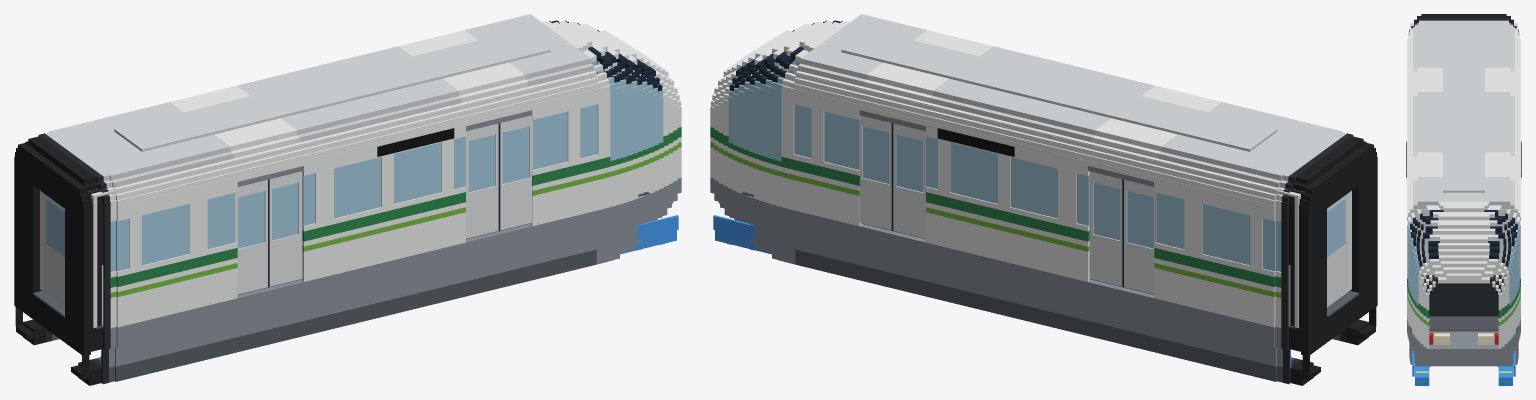
File: ecobee_front.obj
3 renders of one model, left to right at view 1: azimuth 30°, elevation 25°; view 2: azimuth 150°, elevation 25°; view 3: azimuth 270°, elevation 25°, orthographic. The views are drawn at different scales.
Parts seen in each view (by area): view 1: SHELL, SHELL_roof, SHELL_diaphragm, EXTERNAL_DOOR_9_CG_DR2_TOGGLE_TL_-0.64_X, EXTERNAL_DOOR_4_CG_DR1_TOGGLE_TL_0.64_X, EXTERNAL_DOOR_3_CG_DR1_TOGGLE_TL_-0.64_X, EXTERNAL_DOOR_10_CG_DR2_TOGGLE_TL_0.64_X, CONNECTING_DOOR_1_CG_CR_TOGGLE_TL_0.98_Z, SHELL_ceiling, BOGEY_FRONT, SHELL_end, SHELL_sign; view 2: SHELL, SHELL_roof, SHELL_diaphragm, EXTERNAL_DOOR_12_CG_DL2_TOGGLE_TL_-0.64_X, EXTERNAL_DOOR_7_CG_DL1_TOGGLE_TL_0.64_X, EXTERNAL_DOOR_6_CG_DL1_TOGGLE_TL_-0.64_X, EXTERNAL_DOOR_13_CG_DL2_TOGGLE_TL_0.64_X, CONNECTING_DOOR_1_CG_CR_TOGGLE_TL_0.98_Z, SHELL_ceiling, BOGEY_FRONT, SHELL_end, SHELL_sign; view 3: SHELL, SHELL_roof, SHELL_desk, SHELL_cabwall, SHELL_floor, BOGEY_FRONT, SHELL_ceiling, HEADLIGHT_1, FLOOR.
Part boxes in pixels (left/top/right/bottom): SHELL: left=23, top=14, right=681, bottom=385; SHELL_roof: left=114, top=29, right=550, bottom=151; SHELL_diaphragm: left=14, top=143, right=90, bottom=379; EXTERNAL_DOOR_9_CG_DR2_TOGGLE_TL_-0.64_X: left=465, top=123, right=500, bottom=238; EXTERNAL_DOOR_4_CG_DR1_TOGGLE_TL_0.64_X: left=269, top=171, right=302, bottom=286; EXTERNAL_DOOR_3_CG_DR1_TOGGLE_TL_-0.64_X: left=235, top=179, right=269, bottom=294; EXTERNAL_DOOR_10_CG_DR2_TOGGLE_TL_0.64_X: left=500, top=115, right=532, bottom=230; CONNECTING_DOOR_1_CG_CR_TOGGLE_TL_0.98_Z: left=43, top=193, right=64, bottom=307; SHELL_ceiling: left=94, top=72, right=591, bottom=197; BOGEY_FRONT: left=620, top=215, right=678, bottom=254; SHELL_end: left=40, top=190, right=97, bottom=328; SHELL_sign: left=377, top=128, right=454, bottom=156; SHELL: left=710, top=14, right=1368, bottom=385; SHELL_roof: left=841, top=29, right=1277, bottom=151; SHELL_diaphragm: left=1301, top=143, right=1377, bottom=379; EXTERNAL_DOOR_12_CG_DL2_TOGGLE_TL_-0.64_X: left=891, top=123, right=926, bottom=238; EXTERNAL_DOOR_7_CG_DL1_TOGGLE_TL_0.64_X: left=1089, top=171, right=1122, bottom=286; EXTERNAL_DOOR_6_CG_DL1_TOGGLE_TL_-0.64_X: left=1122, top=179, right=1156, bottom=294; EXTERNAL_DOOR_13_CG_DL2_TOGGLE_TL_0.64_X: left=859, top=115, right=891, bottom=230; CONNECTING_DOOR_1_CG_CR_TOGGLE_TL_0.98_Z: left=1327, top=193, right=1348, bottom=307; SHELL_ceiling: left=800, top=72, right=1297, bottom=196; BOGEY_FRONT: left=713, top=215, right=771, bottom=254; SHELL_end: left=1294, top=190, right=1351, bottom=328; SHELL_sign: left=937, top=128, right=1014, bottom=156; SHELL: left=1407, top=14, right=1520, bottom=367; SHELL_roof: left=1443, top=39, right=1484, bottom=192; SHELL_desk: left=1422, top=275, right=1505, bottom=316; SHELL_cabwall: left=1410, top=208, right=1517, bottom=274; SHELL_floor: left=1410, top=316, right=1517, bottom=331; BOGEY_FRONT: left=1412, top=351, right=1515, bottom=385; SHELL_ceiling: left=1410, top=24, right=1517, bottom=207; HEADLIGHT_1: left=1434, top=333, right=1493, bottom=344; FLOOR: left=1410, top=330, right=1517, bottom=331.
Size of the model in its own units: 12.66 by 4.07 by 2.72.
1 material, 1 textured.
